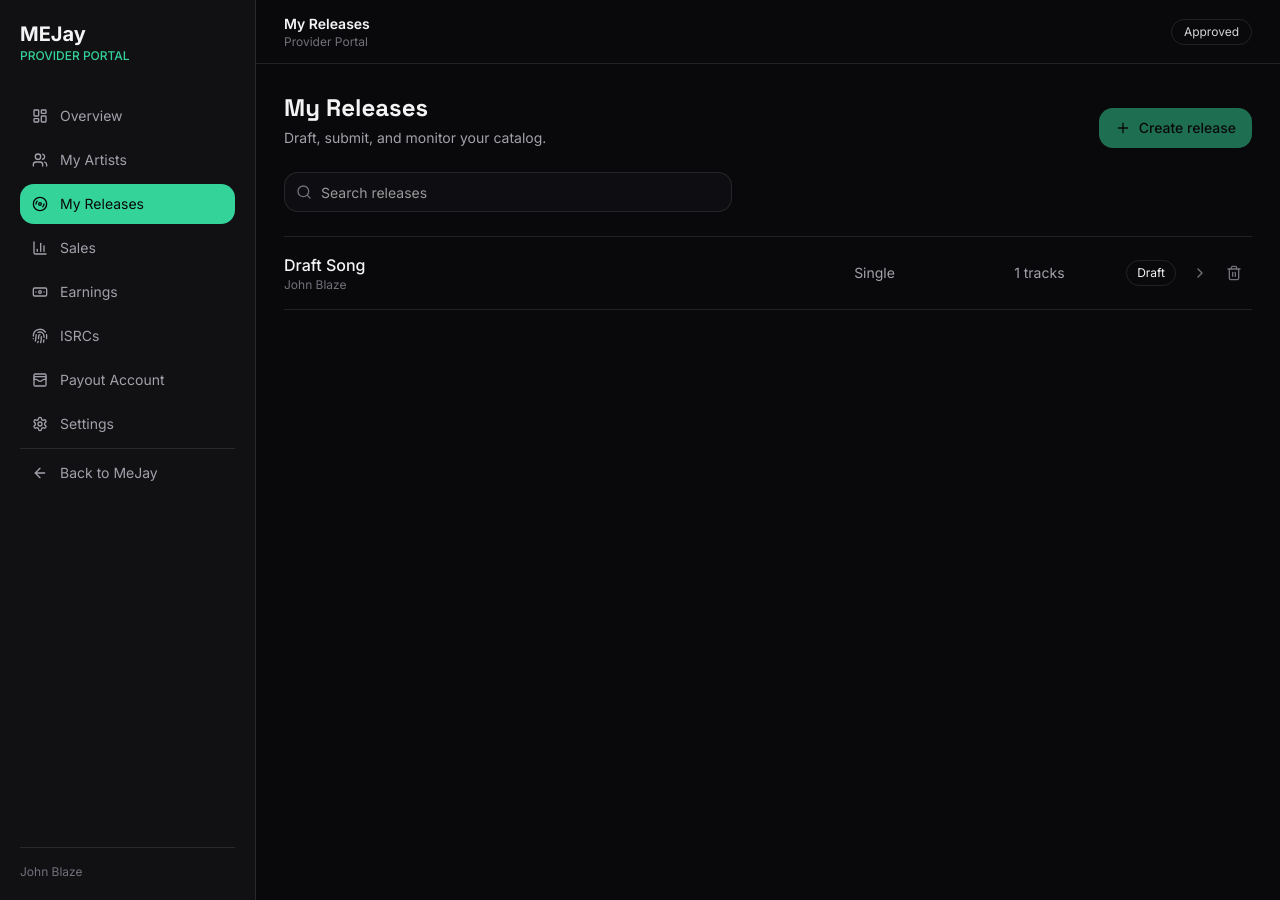
Test case: My Releases deletion › shows the server reason when a delete is refused
Click the button named "Delete Draft Song". click: (1234, 273)
box: x1=1216 y1=255 x2=1252 y2=291
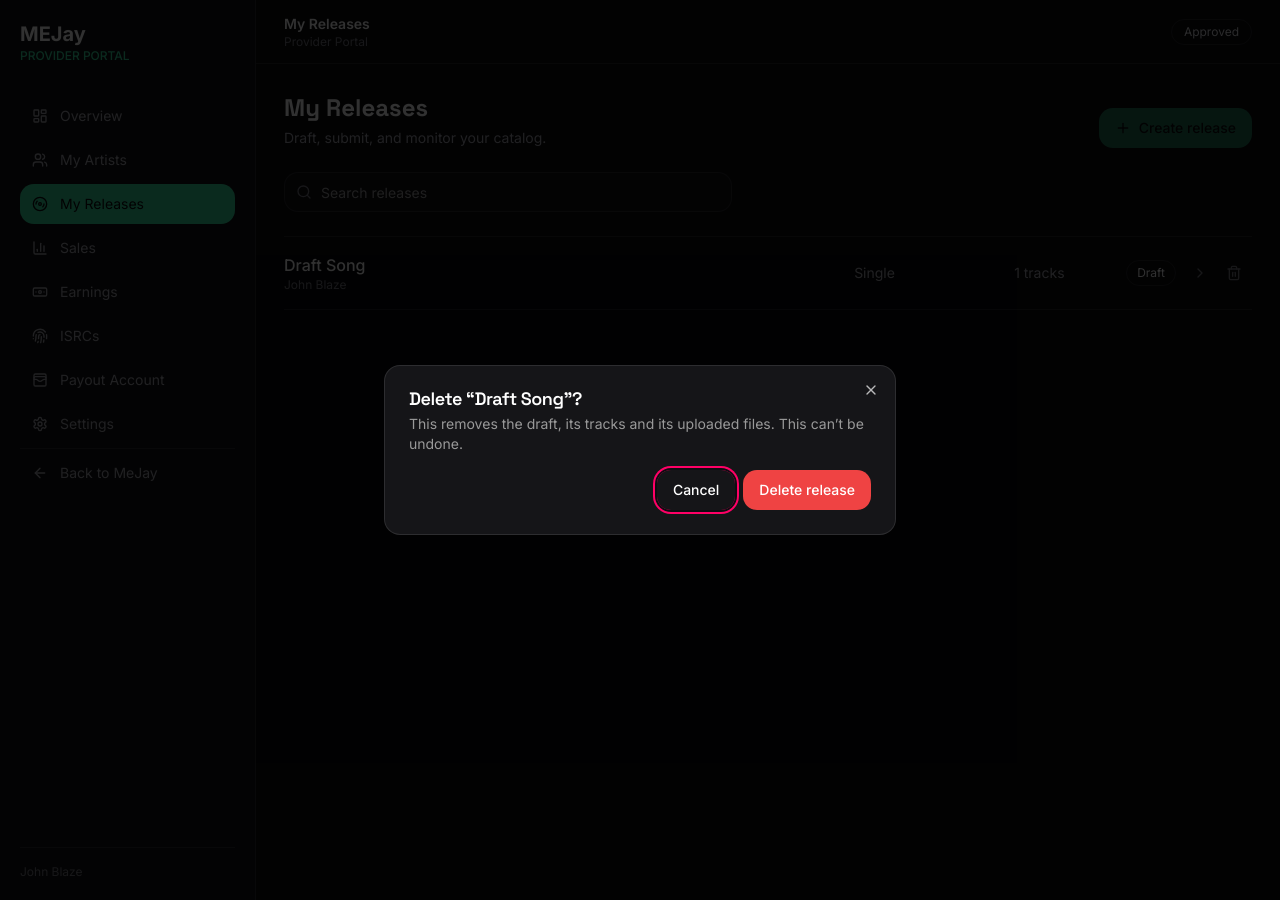
Click the button "Delete release". click: (807, 490)
box: x1=743 y1=470 x2=871 y2=510
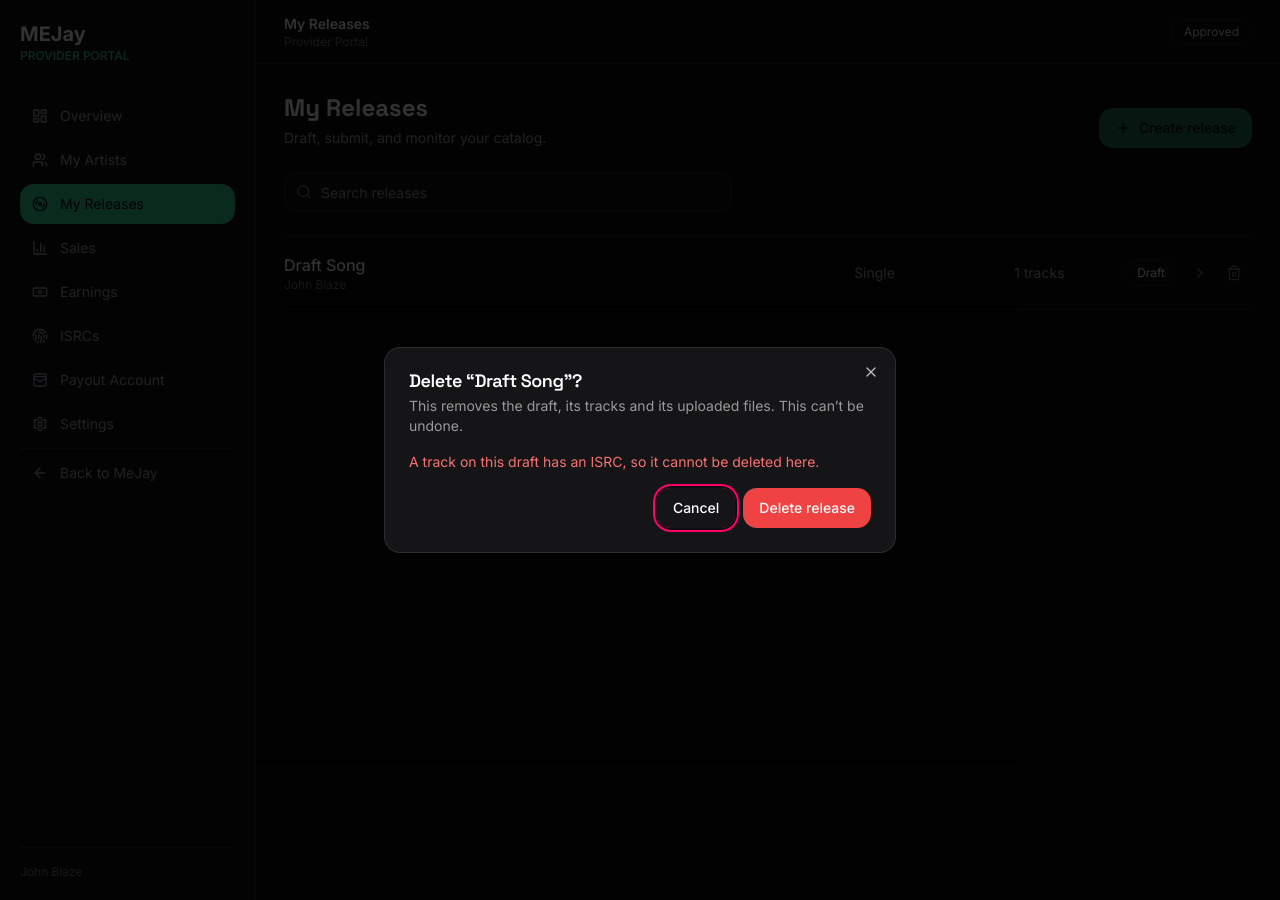
Expected: the text "Draft Song" is shown, x1=284 y1=255 x2=366 y2=275
Now the message shows "has an ISRC", box x1=409 y1=453 x2=819 y2=470
